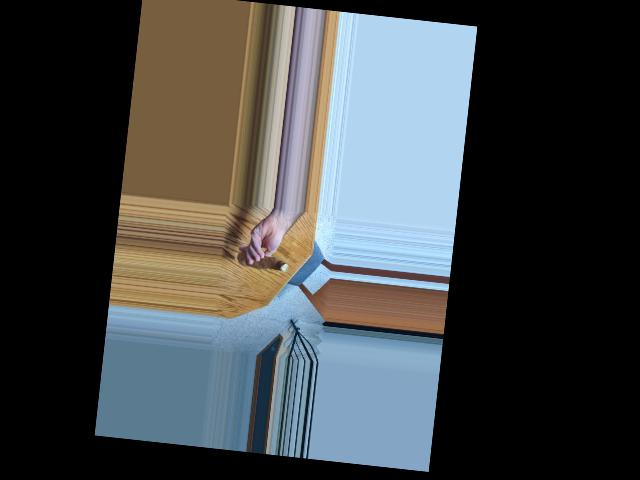sweet_potato: (245, 255, 290, 271)
